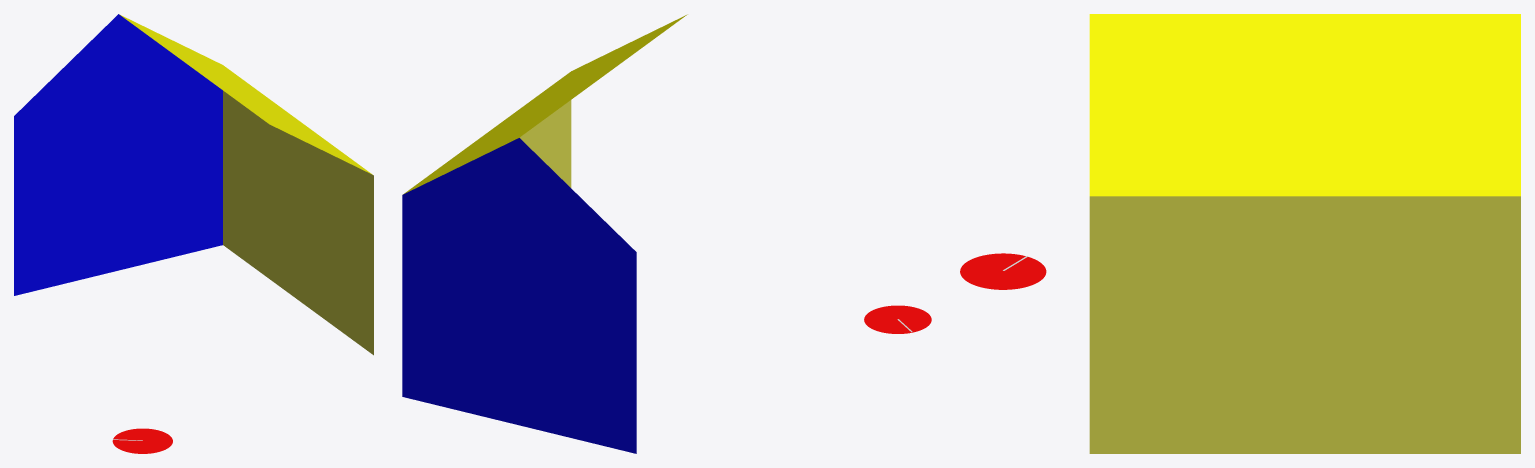
Rendered from result.glb.
The picture shows the model from 3 angles, left to right: view 1: azimuth 30°, elevation 25°; view 2: azimuth 150°, elevation 25°; view 3: azimuth 270°, elevation 25°; orthographic projection. The views are drawn at different scales.
Visible parts, largest first — view 1: d29ce221-17d9-4c7c-834c-a1855a1a621b__undefined, ba49f1ef-1a1a-480e-872b-bf974c6691ad__undefined, b7789053-644d-4a5c-ad74-718312963901__undefined, 870efde7-ddb2-4343-8cc1-e00c53d255cb__Circle; view 2: d29ce221-17d9-4c7c-834c-a1855a1a621b__undefined, b7789053-644d-4a5c-ad74-718312963901__undefined, ba49f1ef-1a1a-480e-872b-bf974c6691ad__undefined, 870efde7-ddb2-4343-8cc1-e00c53d255cb__Circle; view 3: ba49f1ef-1a1a-480e-872b-bf974c6691ad__undefined, b7789053-644d-4a5c-ad74-718312963901__undefined, 870efde7-ddb2-4343-8cc1-e00c53d255cb__Circle.
Part boxes in pixels (x1,y1,x2,y2): d29ce221-17d9-4c7c-834c-a1855a1a621b__undefined: [14, 14, 222, 295]; ba49f1ef-1a1a-480e-872b-bf974c6691ad__undefined: [223, 90, 373, 355]; b7789053-644d-4a5c-ad74-718312963901__undefined: [119, 14, 372, 174]; 870efde7-ddb2-4343-8cc1-e00c53d255cb__Circle: [112, 428, 172, 453]; d29ce221-17d9-4c7c-834c-a1855a1a621b__undefined: [402, 138, 636, 453]; b7789053-644d-4a5c-ad74-718312963901__undefined: [403, 14, 687, 194]; ba49f1ef-1a1a-480e-872b-bf974c6691ad__undefined: [519, 100, 571, 187]; 870efde7-ddb2-4343-8cc1-e00c53d255cb__Circle: [864, 305, 931, 333]; ba49f1ef-1a1a-480e-872b-bf974c6691ad__undefined: [1089, 196, 1520, 453]; b7789053-644d-4a5c-ad74-718312963901__undefined: [1089, 14, 1520, 196]; 870efde7-ddb2-4343-8cc1-e00c53d255cb__Circle: [960, 253, 1046, 289].
Size of the model in its own units: 550 by 469 by 650.
